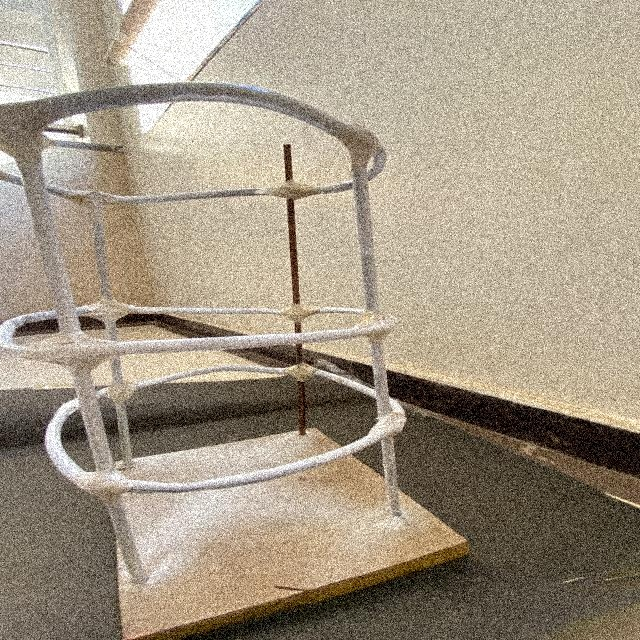silo: (0, 81, 507, 617)
